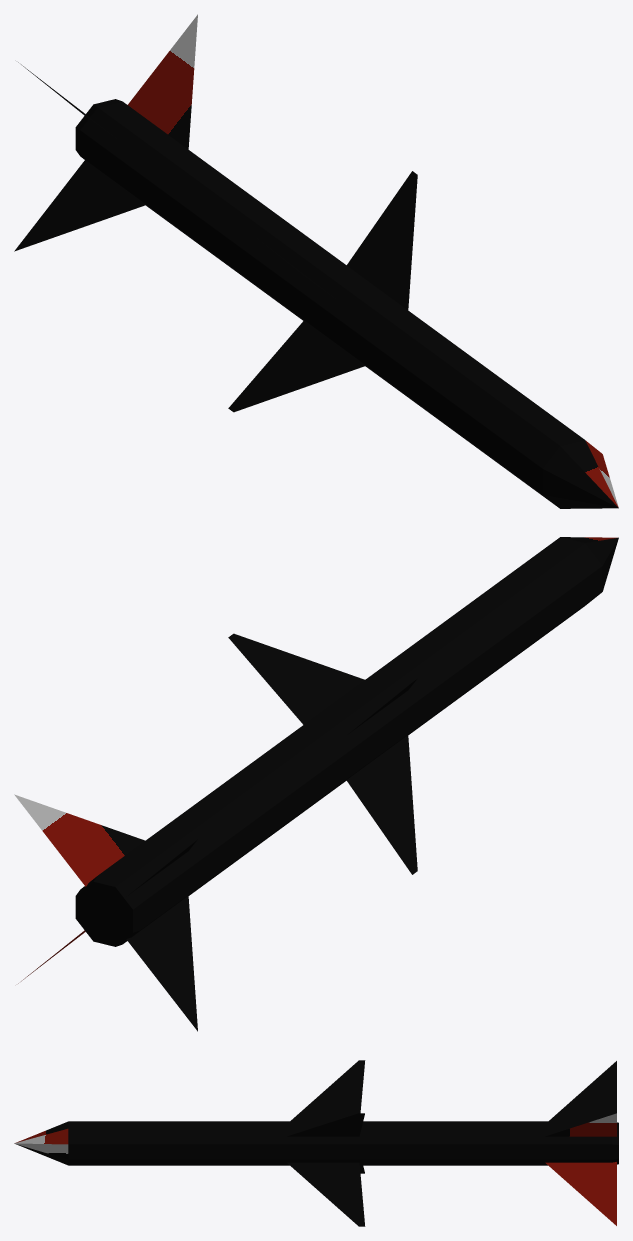
The model's file is aim7f.obj.
3 renders of one model, top to bottom at view 1: azimuth 30°, elevation 25°; view 2: azimuth 150°, elevation 25°; view 3: azimuth 270°, elevation 25°, orthographic. The views are drawn at different scales.
Parts seen in each view (by area): view 1: cylinder, plane4, plane1, plane6, plane7, cone; view 2: cylinder, plane4, plane1, plane6, plane7, cylinder2, cone; view 3: cylinder, plane3, plane8, plane2, plane5, cone, plane1, plane7.
Part boxes in pixels (box(x1,y1,x2,y2)): cylinder: box(80, 101, 584, 507); plane4: box(228, 321, 365, 412); plane1: box(346, 171, 417, 309); plane6: box(14, 160, 145, 251); plane7: box(128, 14, 197, 149); cone: box(542, 440, 618, 508); cylinder: box(98, 537, 602, 941); plane4: box(346, 735, 417, 874); plane1: box(228, 633, 364, 724); plane6: box(126, 896, 197, 1031); plane7: box(14, 794, 144, 886); cylinder2: box(75, 875, 140, 946); cone: box(561, 537, 618, 591); cylinder: box(68, 1121, 612, 1165); plane3: box(287, 1162, 365, 1226); plane8: box(545, 1162, 616, 1225); plane2: box(290, 1060, 365, 1121); plane5: box(549, 1061, 616, 1121); cone: box(14, 1121, 68, 1165); plane1: box(287, 1113, 364, 1136); plane7: box(545, 1113, 616, 1136).
Bounding box in the file's own units: 1.15 × 1.15 × 5.56.
